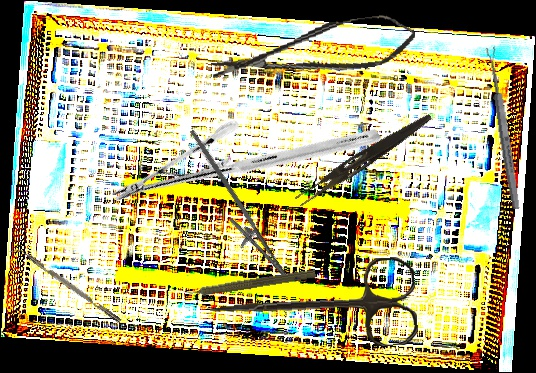Chopper: (9, 242, 122, 329)
Dressing Forceps: (294, 106, 434, 212)
Handpiece: (177, 264, 317, 302)
Iris Scissors: (207, 255, 419, 359)
Micro Scissor: (207, 10, 419, 90)
Needle Holder: (109, 31, 384, 300), (162, 128, 306, 289)
Surgical Spoon: (485, 46, 522, 210)
